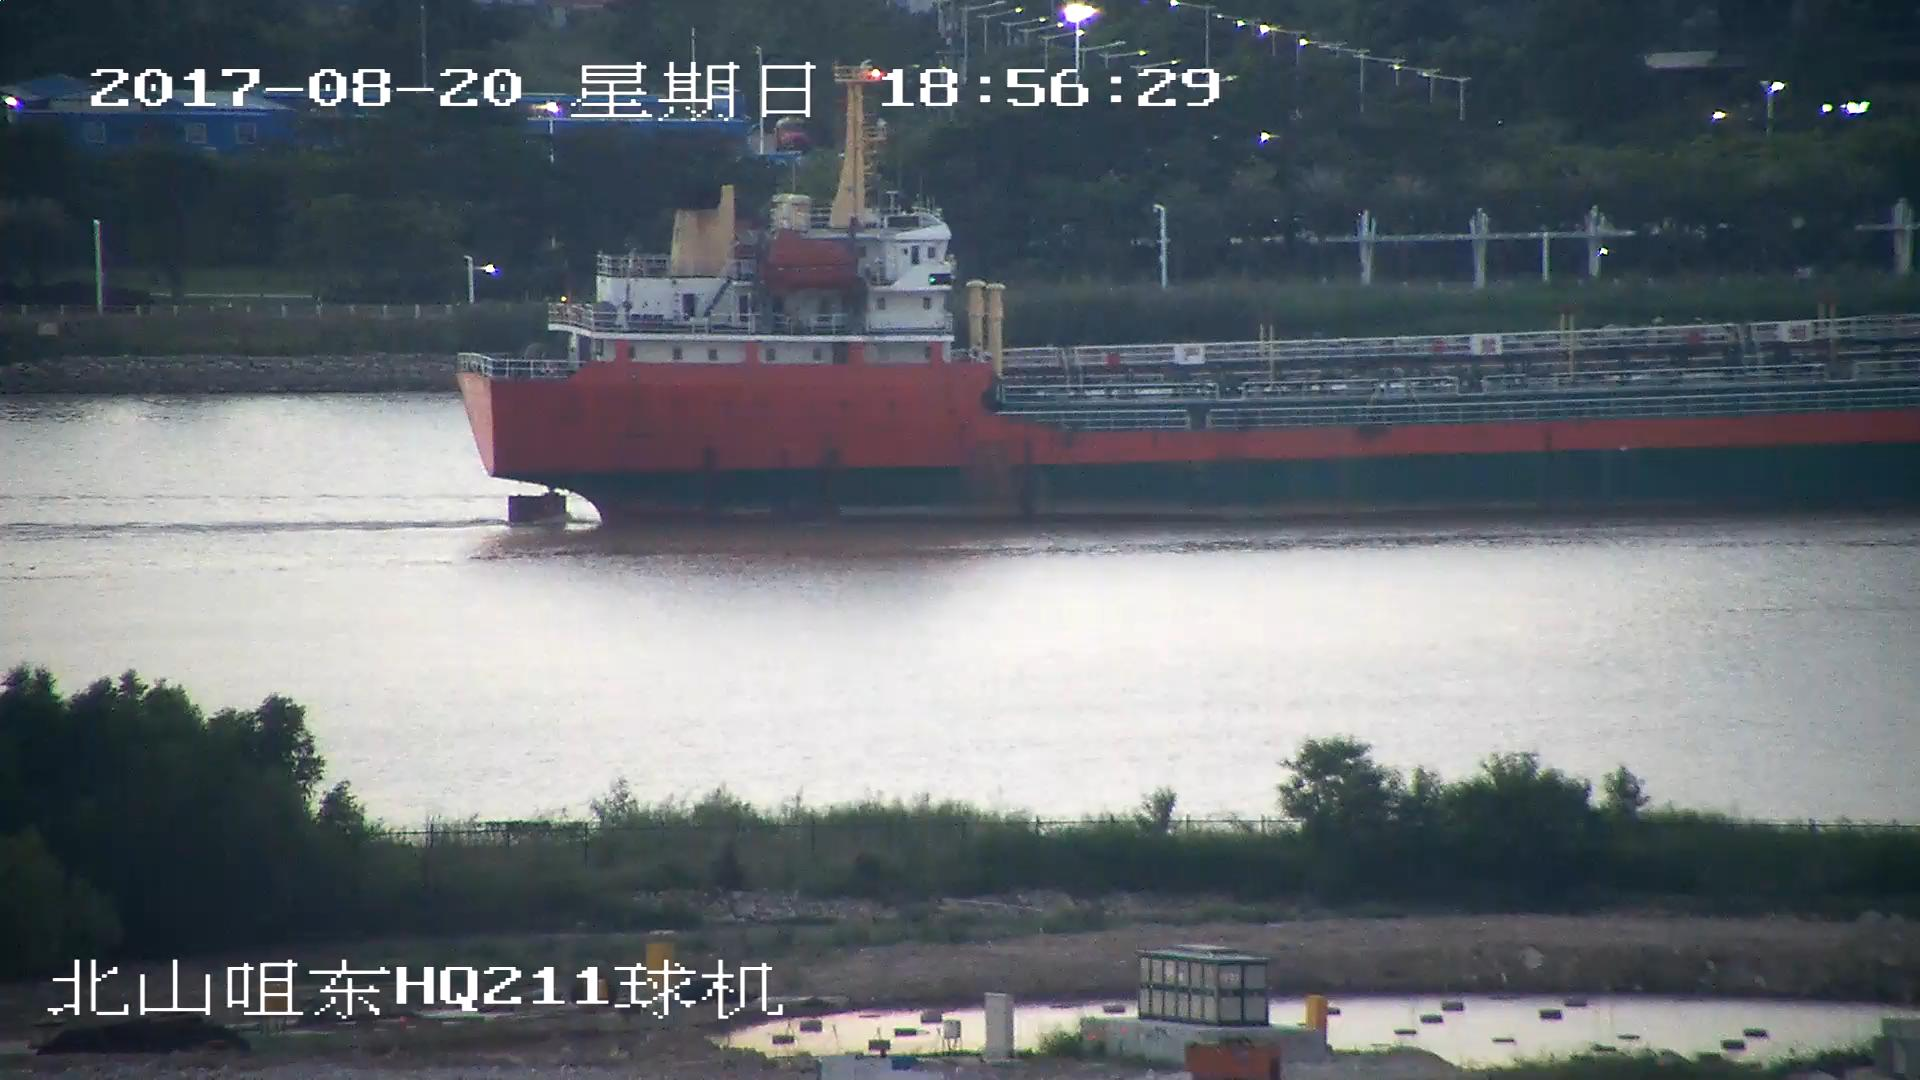general cargo ship: (453, 138, 1920, 515)
